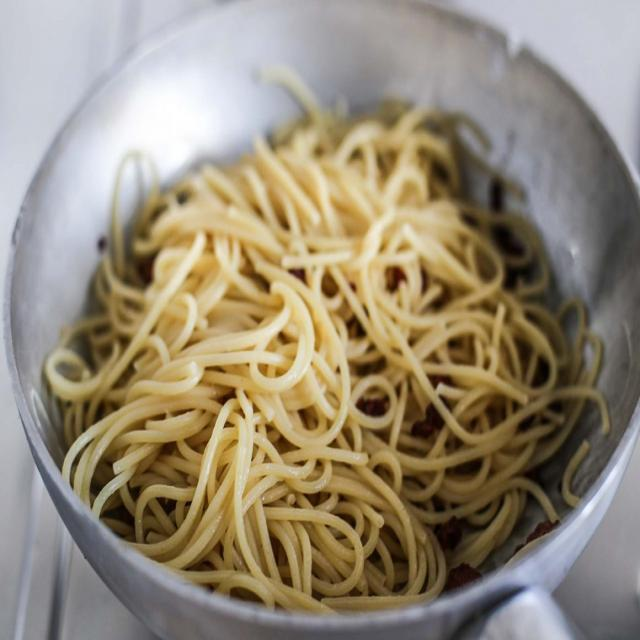Oil pasta: (56, 60, 617, 638)
